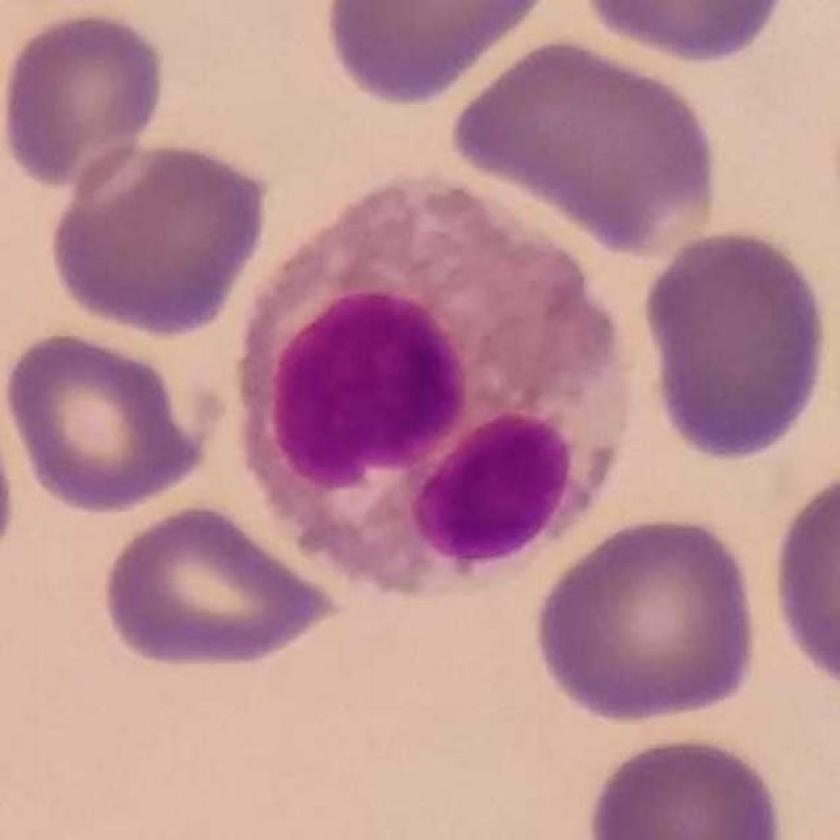eosinophil: (240, 172, 630, 605)
